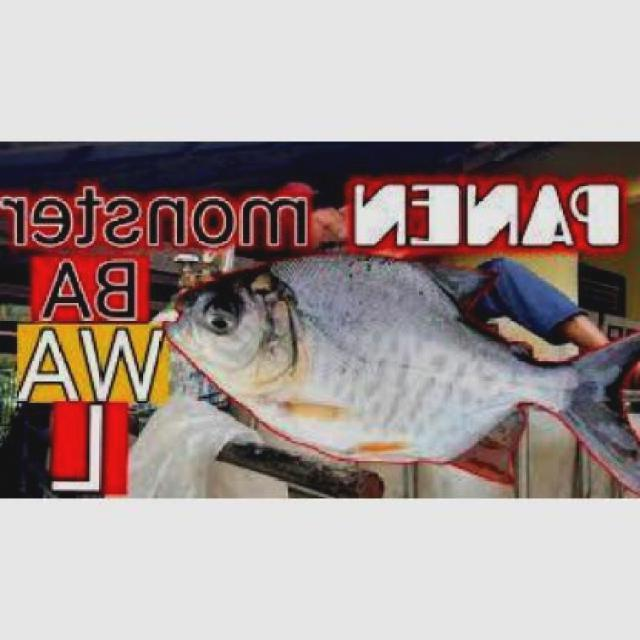ikan-pacu: (166, 252, 640, 472)
